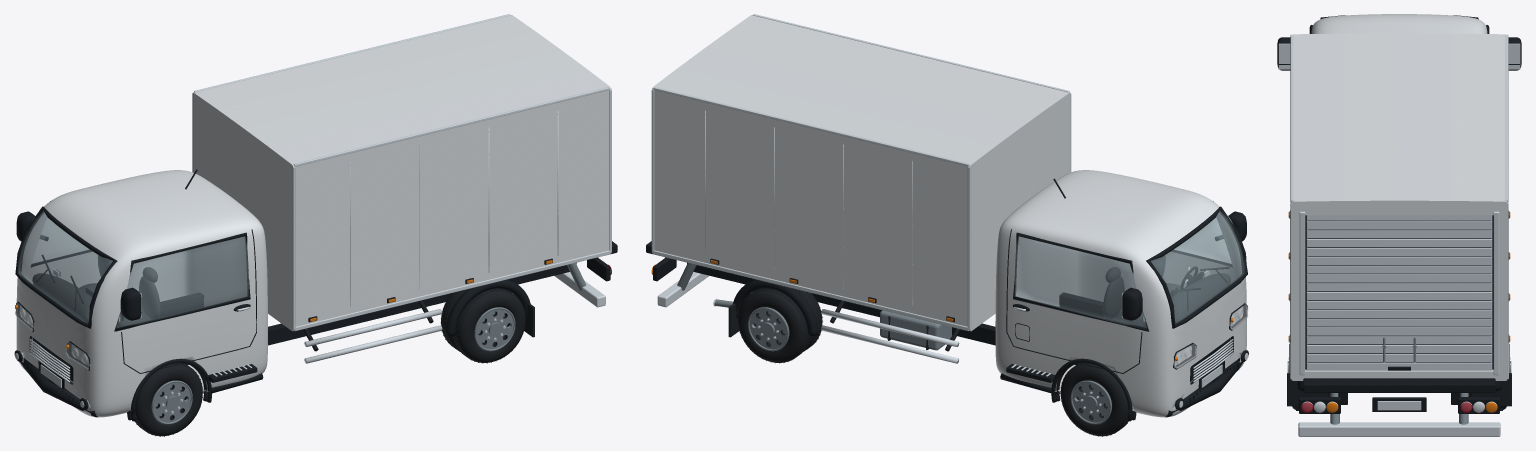
File: camion-rigido.glb
3 renders of one model, left to right at view 1: azimuth 30°, elevation 25°; view 2: azimuth 150°, elevation 25°; view 3: azimuth 270°, elevation 25°, orthographic. The views are drawn at different scales.
Visible parts, largest first — view 1: Separate hollow 12-station ruled dry freight box, Forward-control truck hollow 12-station cab, Truck cab door window curved transparent pane -1, Truck raked laminated windscreen curved laminated transparen, Commercial tire formed sidewalls.002, Commercial tire formed sidewalls, Truck ladder chassis side rail, Seated cargo lower aluminium edge, Truck raked laminated windscreen recessed rubber gasket, Sculpted dashboard, Seated cargo roof aluminium edge, Truck cab door window curved transparent pane 1 (+14 smaller); view 2: Separate hollow 12-station ruled dry freight box, Forward-control truck hollow 12-station cab, Truck cab door window curved transparent pane 1, Truck raked laminated windscreen curved laminated transparen, Commercial tire formed sidewalls.004, Commercial tire formed sidewalls.001, Seated cargo lower aluminium edge.001, Truck ladder chassis side rail.001, Truck raked laminated windscreen recessed rubber gasket, Truck fuel reservoir, Sculpted dashboard, Seated cargo roof aluminium edge.001 (+16 smaller); view 3: Separate hollow 12-station ruled dry freight box, Forward-control truck hollow 12-station cab, Rear under-ride protection bar, Rear load threshold step, Rear roll-up formed horizontal door slat.004, Rear roll-up formed horizontal door slat.005, Rear roll-up formed horizontal door slat.006, Rear roll-up formed horizontal door slat.009, Rear roll-up formed horizontal door slat.010, Rear roll-up formed horizontal door slat.011, Rear roll-up formed horizontal door slat.012, Rear roll-up formed horizontal door slat.015 (+31 smaller).
Part boxes in pixels (left/top/right/bottom): Separate hollow 12-station ruled dry freight box: left=192, top=15, right=611, bottom=331; Forward-control truck hollow 12-station cab: left=16, top=170, right=267, bottom=417; Truck cab door window curved transparent pane -1: left=116, top=236, right=248, bottom=327; Truck raked laminated windscreen curved laminated transparen: left=18, top=211, right=112, bottom=323; Commercial tire formed sidewalls.002: left=453, top=288, right=525, bottom=362; Commercial tire formed sidewalls: left=134, top=362, right=202, bottom=436; Truck ladder chassis side rail: left=185, top=262, right=576, bottom=364; Seated cargo lower aluminium edge: left=294, top=250, right=610, bottom=331; Truck raked laminated windscreen recessed rubber gasket: left=15, top=206, right=117, bottom=328; Sculpted dashboard: left=32, top=273, right=91, bottom=322; Seated cargo roof aluminium edge: left=293, top=87, right=610, bottom=166; Truck cab door window curved transparent pane 1: left=32, top=218, right=88, bottom=263; Separate hollow 12-station ruled dry freight box: left=652, top=15, right=1070, bottom=331; Forward-control truck hollow 12-station cab: left=995, top=170, right=1246, bottom=417; Truck cab door window curved transparent pane 1: left=1014, top=236, right=1146, bottom=327; Truck raked laminated windscreen curved laminated transparen: left=1151, top=210, right=1244, bottom=323; Commercial tire formed sidewalls.004: left=738, top=288, right=810, bottom=362; Commercial tire formed sidewalls.001: left=1060, top=362, right=1129, bottom=436; Seated cargo lower aluminium edge.001: left=653, top=250, right=968, bottom=330; Truck ladder chassis side rail.001: left=687, top=262, right=1077, bottom=364; Truck raked laminated windscreen recessed rubber gasket: left=1146, top=206, right=1247, bottom=328; Truck fuel reservoir: left=880, top=310, right=952, bottom=350; Sculpted dashboard: left=1171, top=273, right=1230, bottom=322; Seated cargo roof aluminium edge.001: left=653, top=87, right=969, bottom=166; Separate hollow 12-station ruled dry freight box: left=1291, top=33, right=1507, bottom=380; Forward-control truck hollow 12-station cab: left=1311, top=14, right=1487, bottom=33; Rear under-ride protection bar: left=1298, top=422, right=1500, bottom=436; Rear load threshold step: left=1303, top=378, right=1495, bottom=392; Rear roll-up formed horizontal door slat.004: left=1306, top=327, right=1492, bottom=335; Rear roll-up formed horizontal door slat.005: left=1306, top=318, right=1492, bottom=326; Rear roll-up formed horizontal door slat.006: left=1306, top=309, right=1492, bottom=317; Rear roll-up formed horizontal door slat.009: left=1306, top=283, right=1492, bottom=291; Rear roll-up formed horizontal door slat.010: left=1306, top=274, right=1492, bottom=282; Rear roll-up formed horizontal door slat.011: left=1306, top=265, right=1492, bottom=273; Rear roll-up formed horizontal door slat.012: left=1306, top=256, right=1492, bottom=264; Rear roll-up formed horizontal door slat.015: left=1306, top=230, right=1492, bottom=238.
Size of the model in its own units: 7.39 by 3.31 by 2.73.
10 materials, 10 textured.
